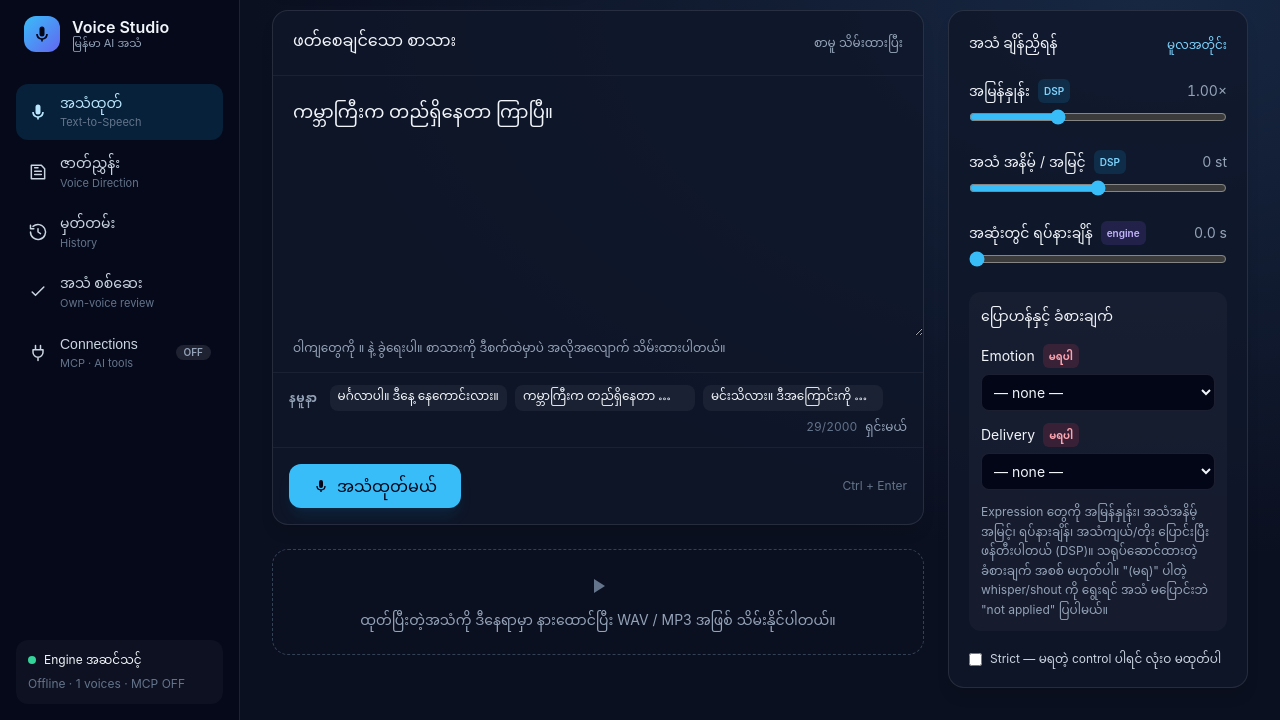
Test case: generate → poll → player, export, and unsupported warning
The image size is (1280, 720).
(page scrolled)
Select "sad (မရ)" in the dropdown labelled "Emotion" at (1098, 392), box [981, 374, 1215, 411]
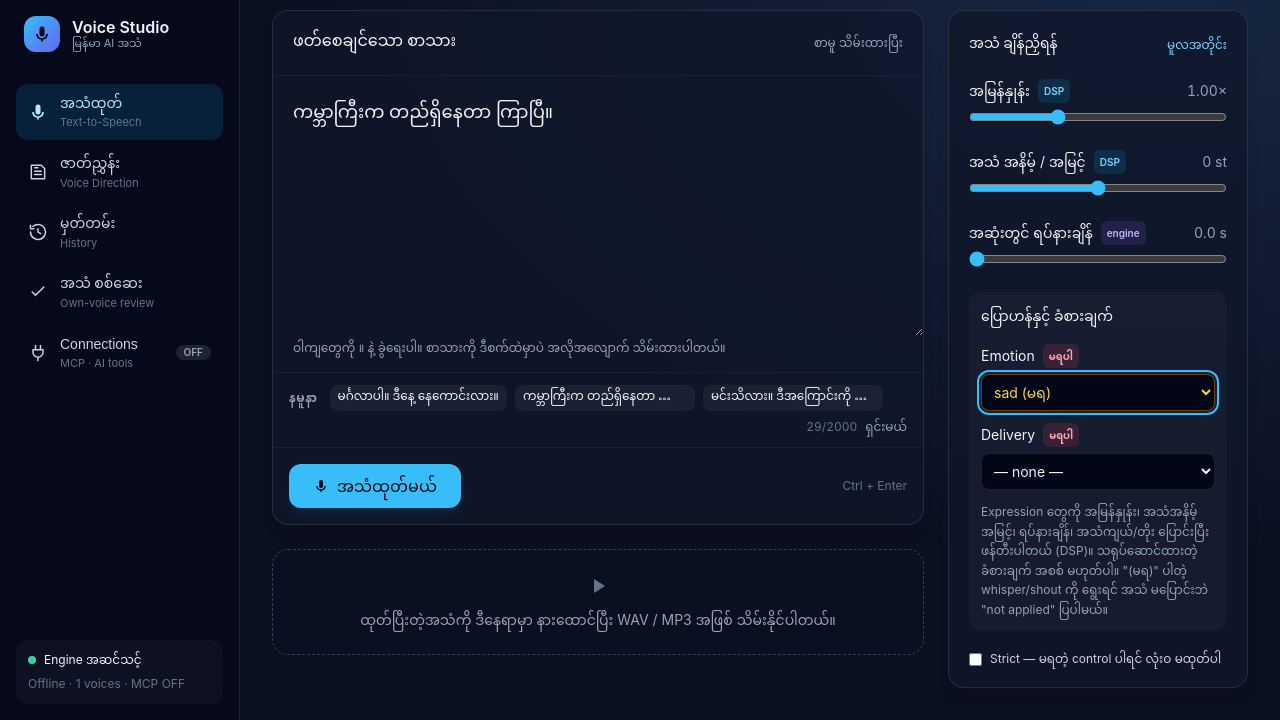
Click the button "အသံထုတ်မယ်" at (375, 486), box [289, 464, 461, 508]
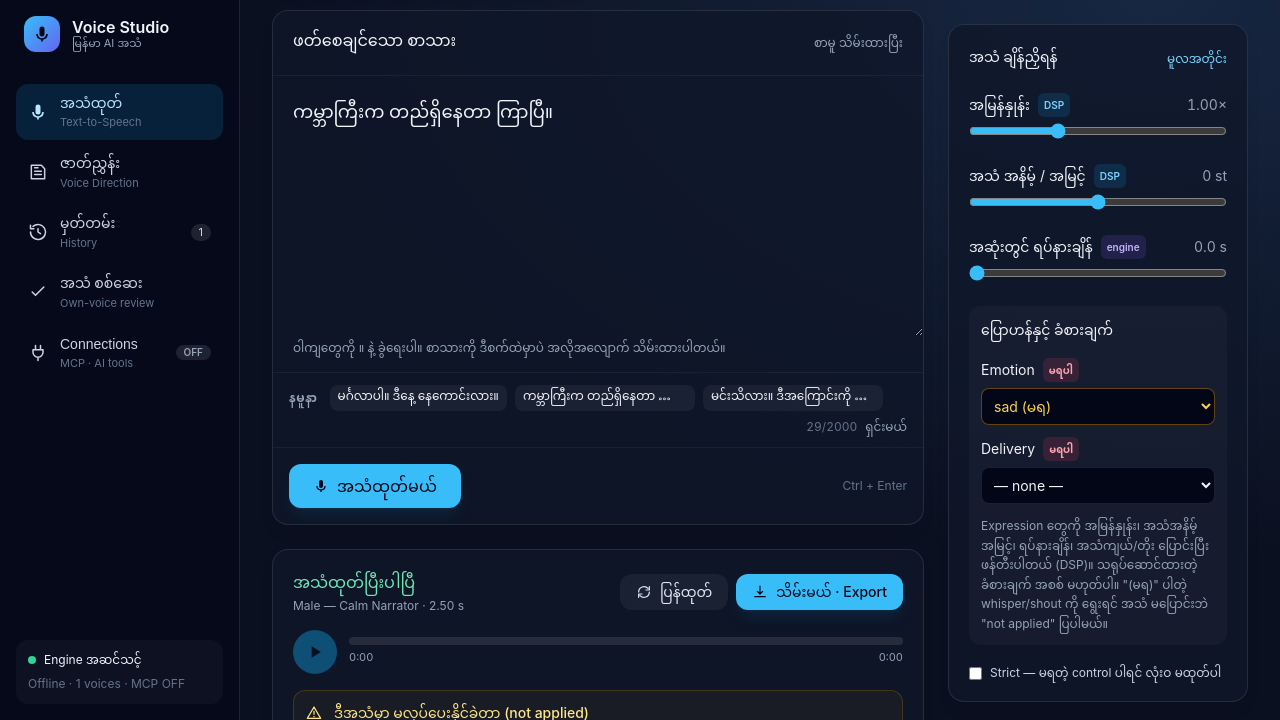
Check: the element with test id "player" is shown, box [293, 630, 903, 674]
Click the button "သိမ်းမယ် · Export" at (820, 592), box [736, 574, 903, 610]
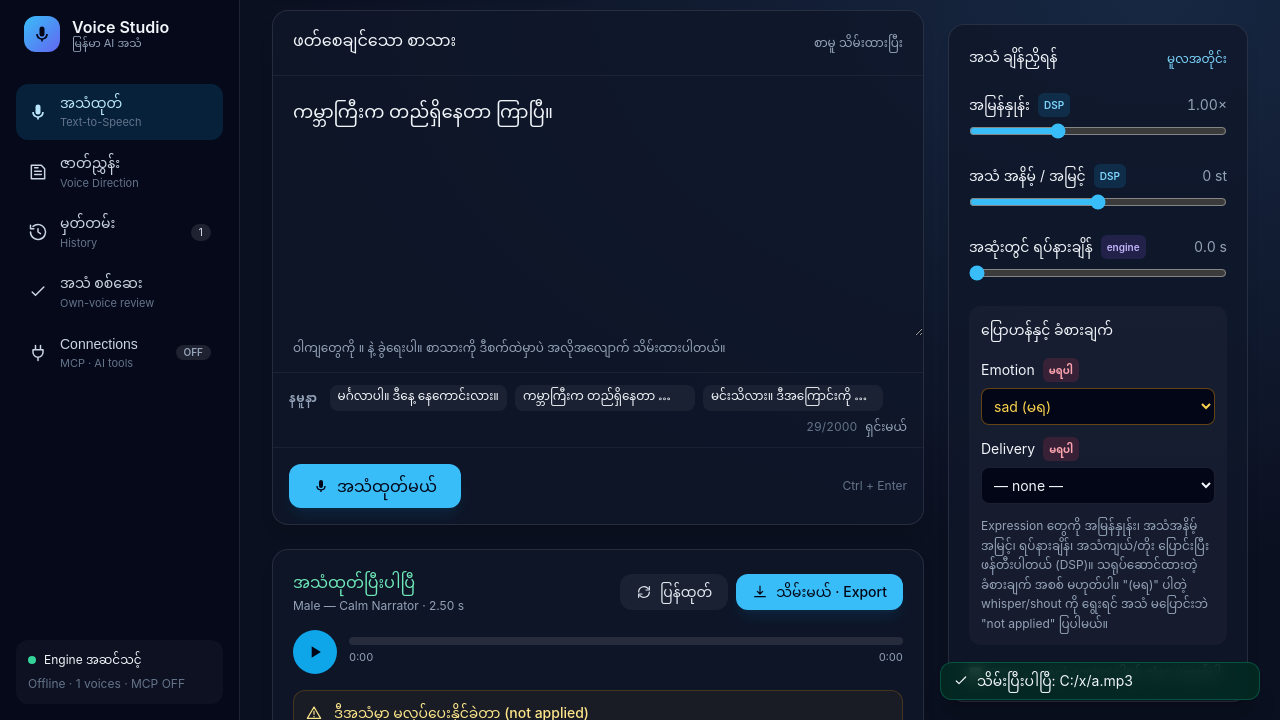
Check: the text "သိမ်းပြီးပါပြီ: C:/x/a.mp3" is shown, box [977, 671, 1133, 691]
Click the button "မှတ်တမ်း History 1" at (120, 232), box [16, 204, 223, 260]
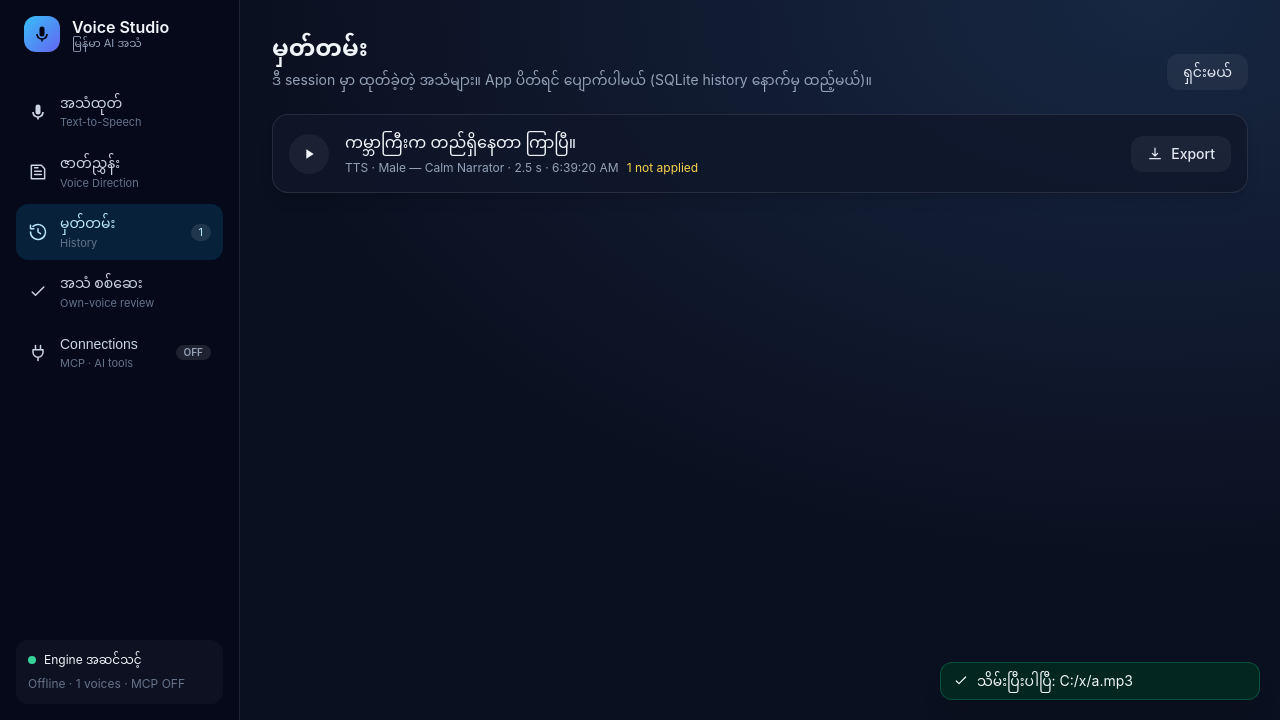
Check: the text "ကမ္ဘာကြီးက တည်ရှိနေတာ ကြာပြီ။" is shown, box [345, 127, 576, 162]
